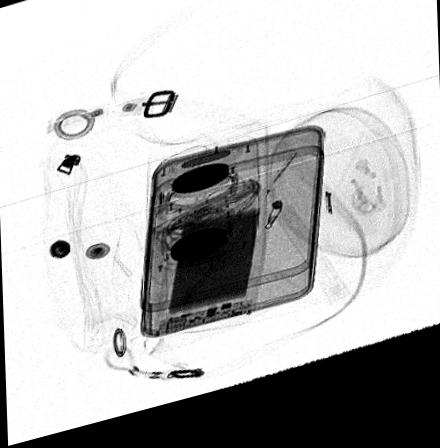Powerbank: (155, 201, 269, 347)
